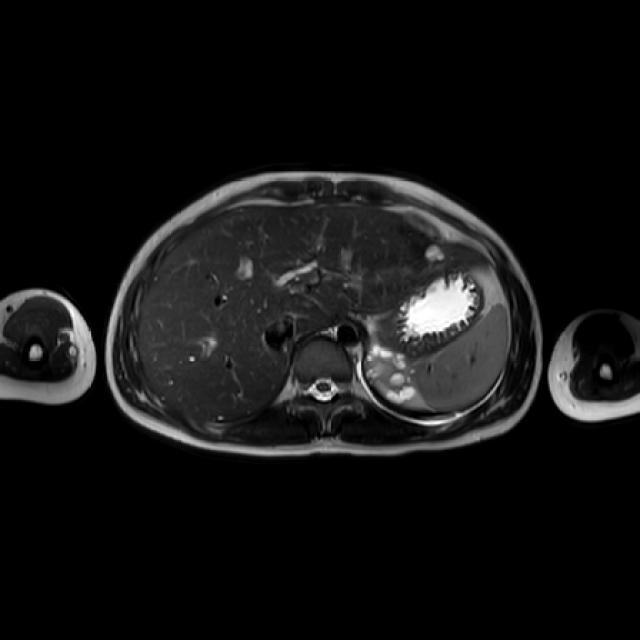sol: (367, 342, 416, 402)
